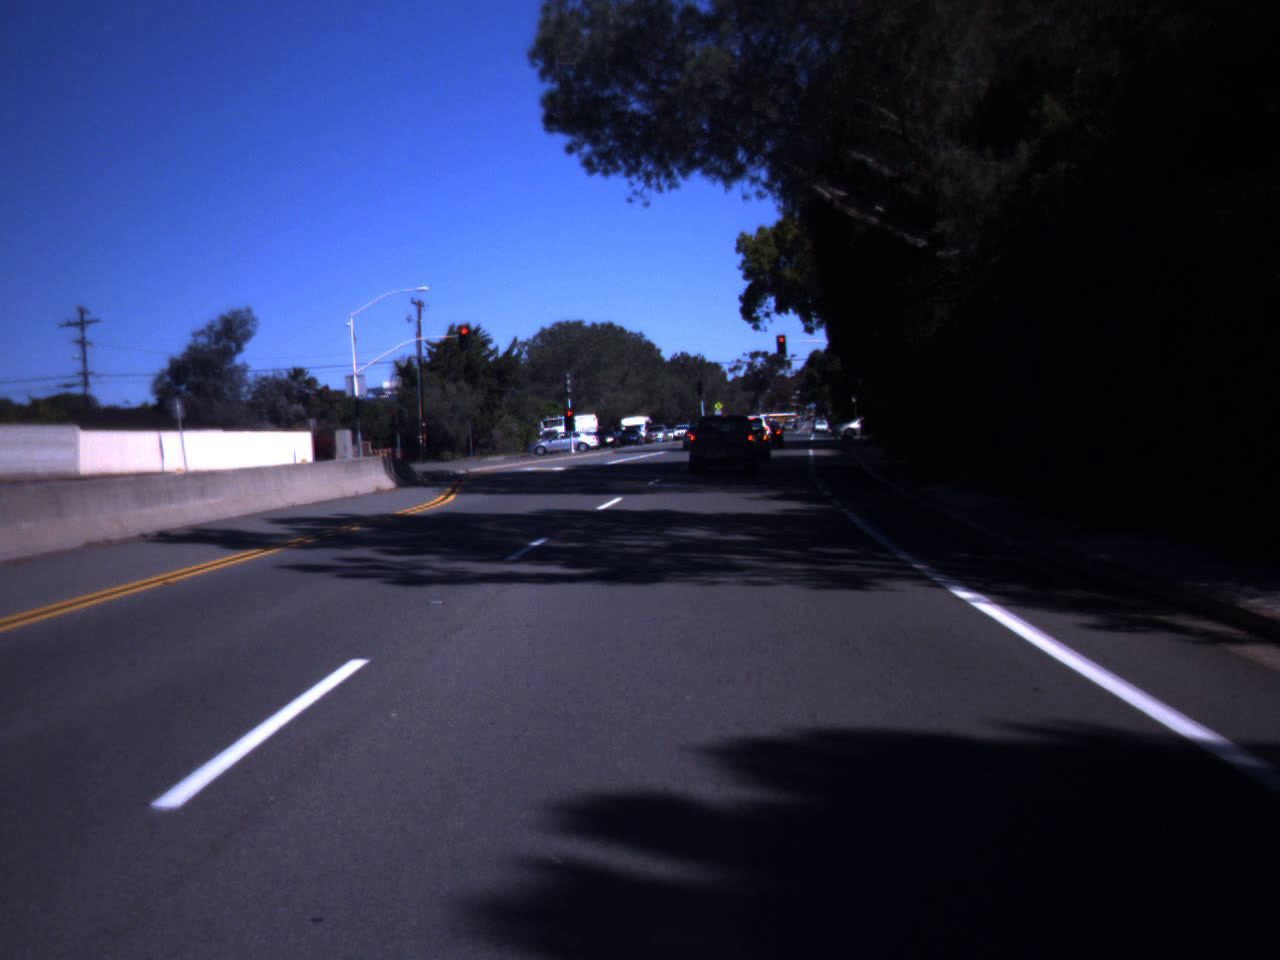stop: (772, 331, 790, 362), (458, 328, 470, 346), (564, 410, 577, 428)
